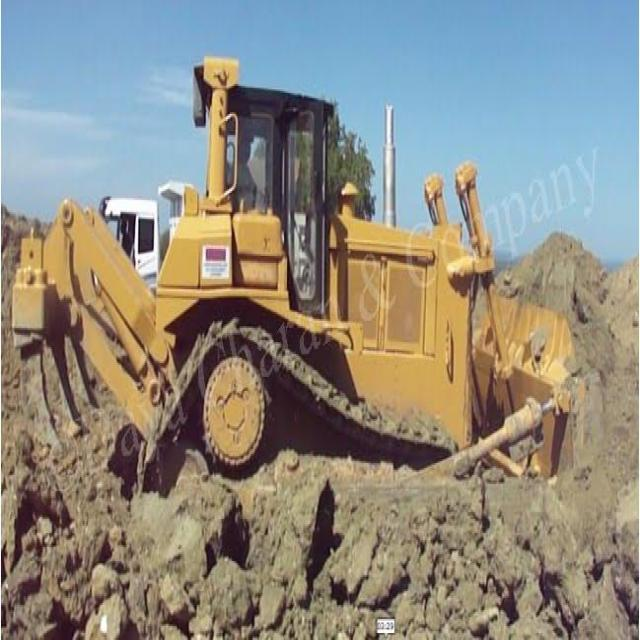Bulldozer: (11, 54, 619, 533)
